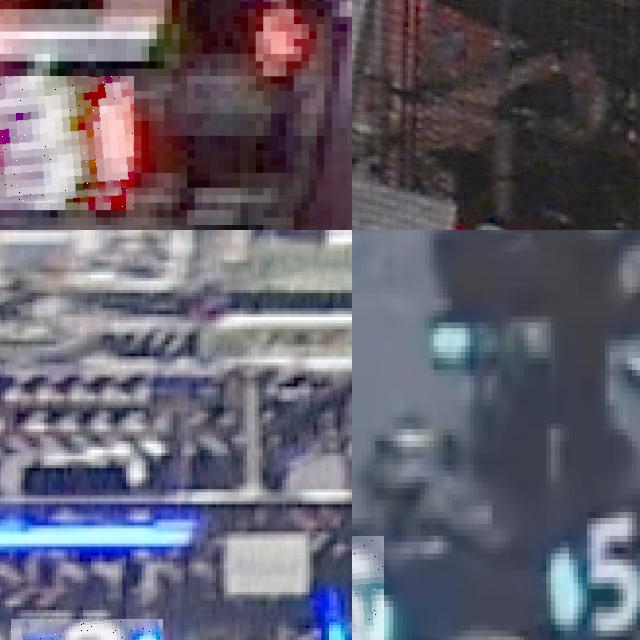B2: (11, 619, 163, 640)
B5: (546, 506, 640, 624), (352, 536, 384, 640)
R3: (0, 76, 133, 210)
